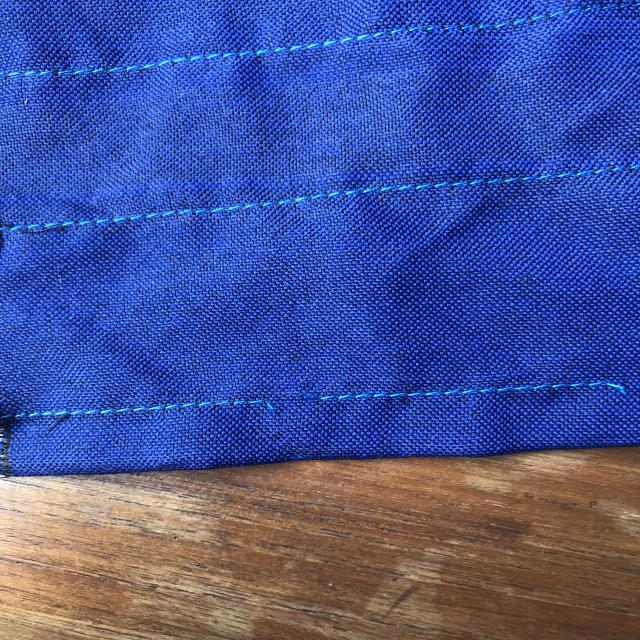broken: (234, 381, 346, 420)
good: (159, 195, 268, 232)
